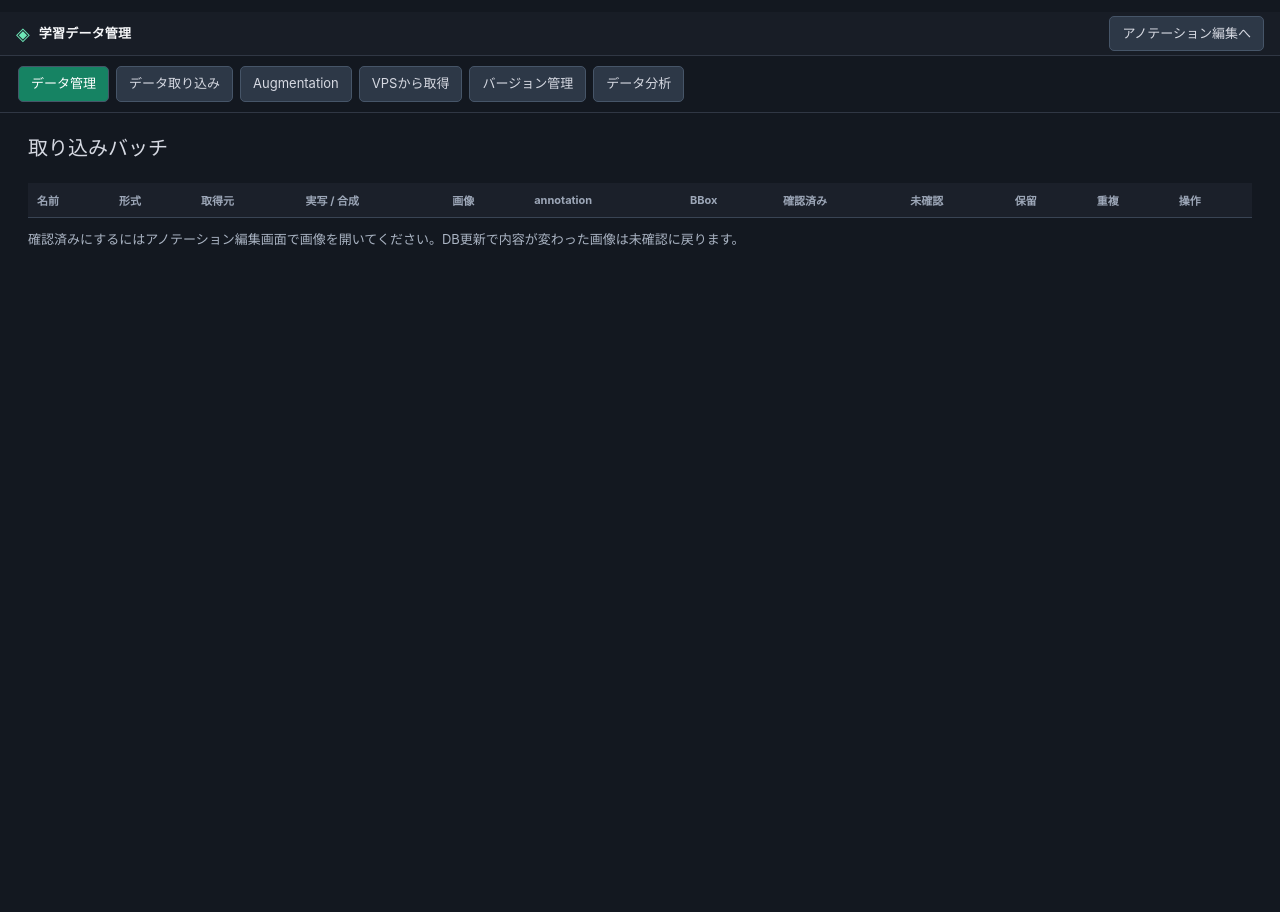
Test: lists completed VPS versions and imports the selected version into sources
The image size is (1280, 912).
Click the button "VPSから取得" at (411, 84), box [359, 66, 462, 102]
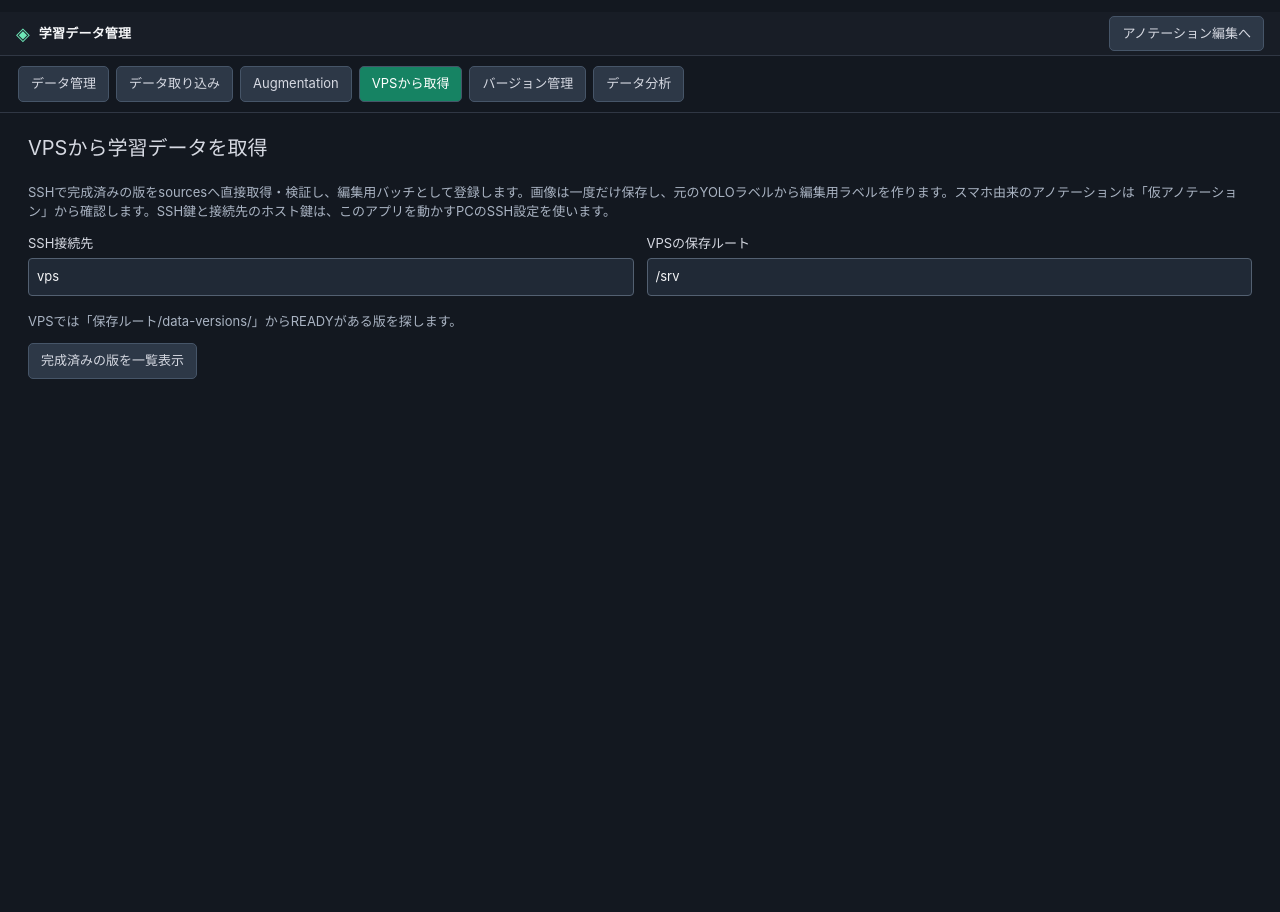
Now the field labelled "SSH接続先" holds "vps", box [28, 258, 634, 296]
Click the button "完成済みの版を一覧表示" at (112, 361), box [28, 343, 197, 378]
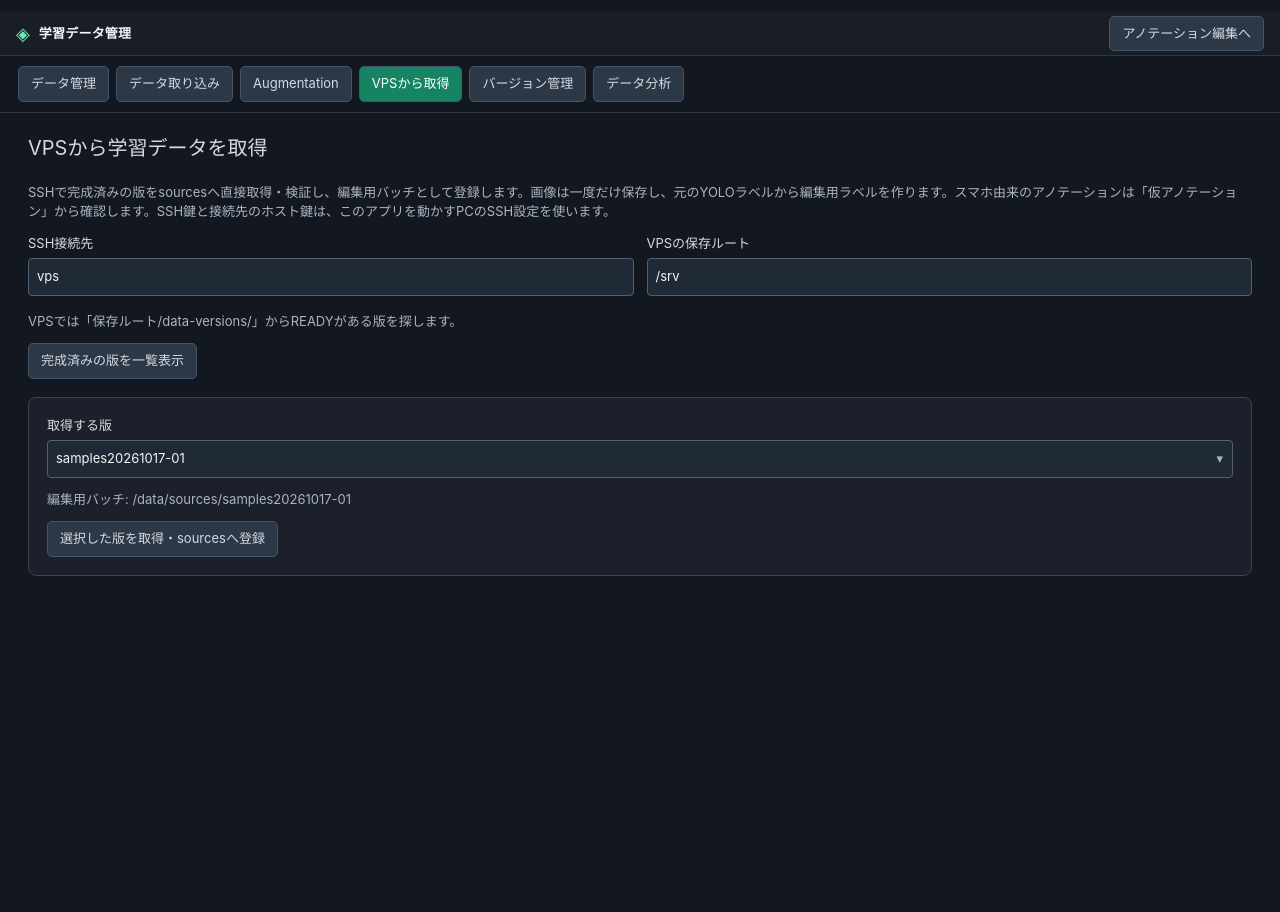
Now the heading named "取得する版を選択" is shown
Click the heading named "取得する版を選択" at (120, 458), box [47, 440, 1233, 478]
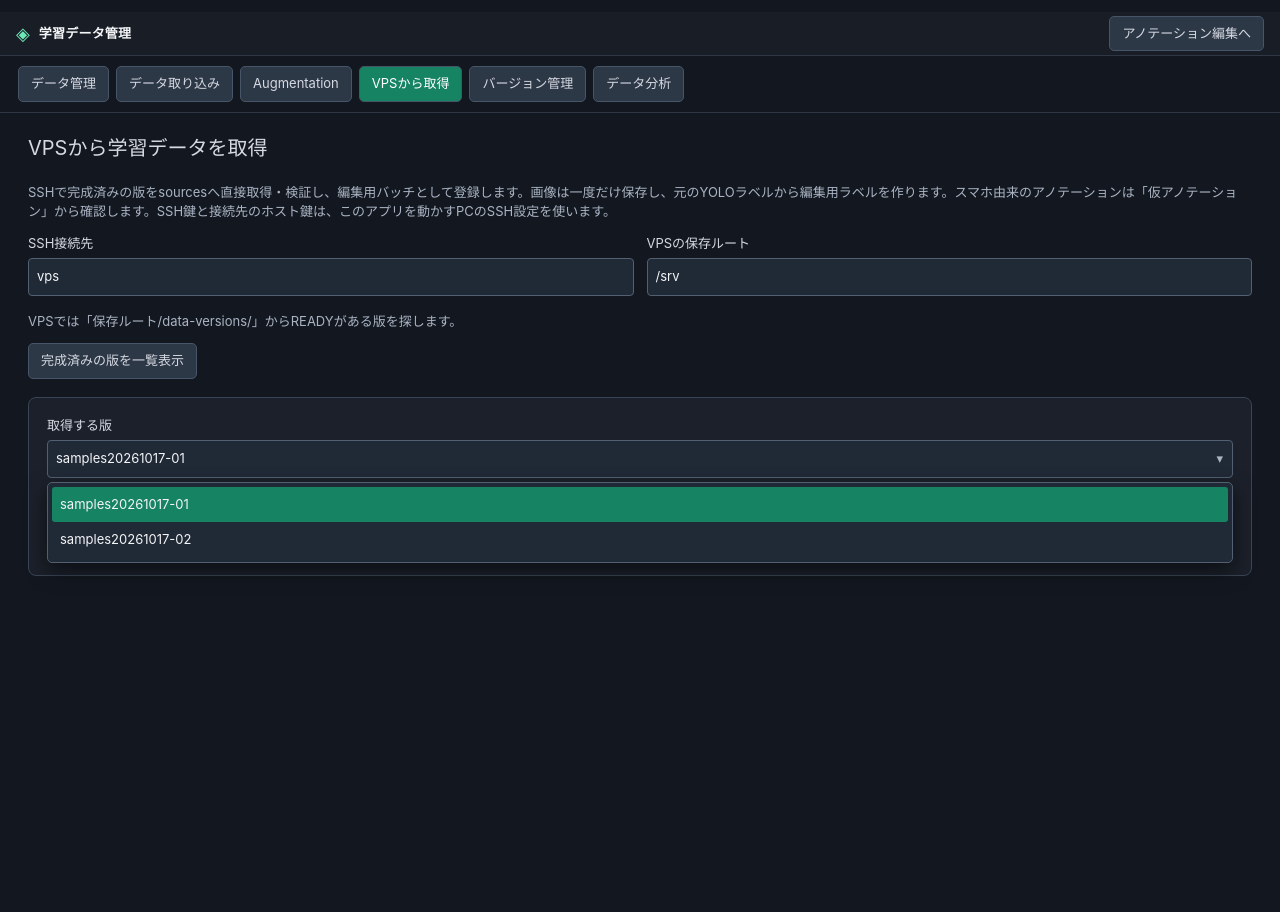
Click the button "samples20261017-02" at (126, 539), box [52, 522, 1228, 558]
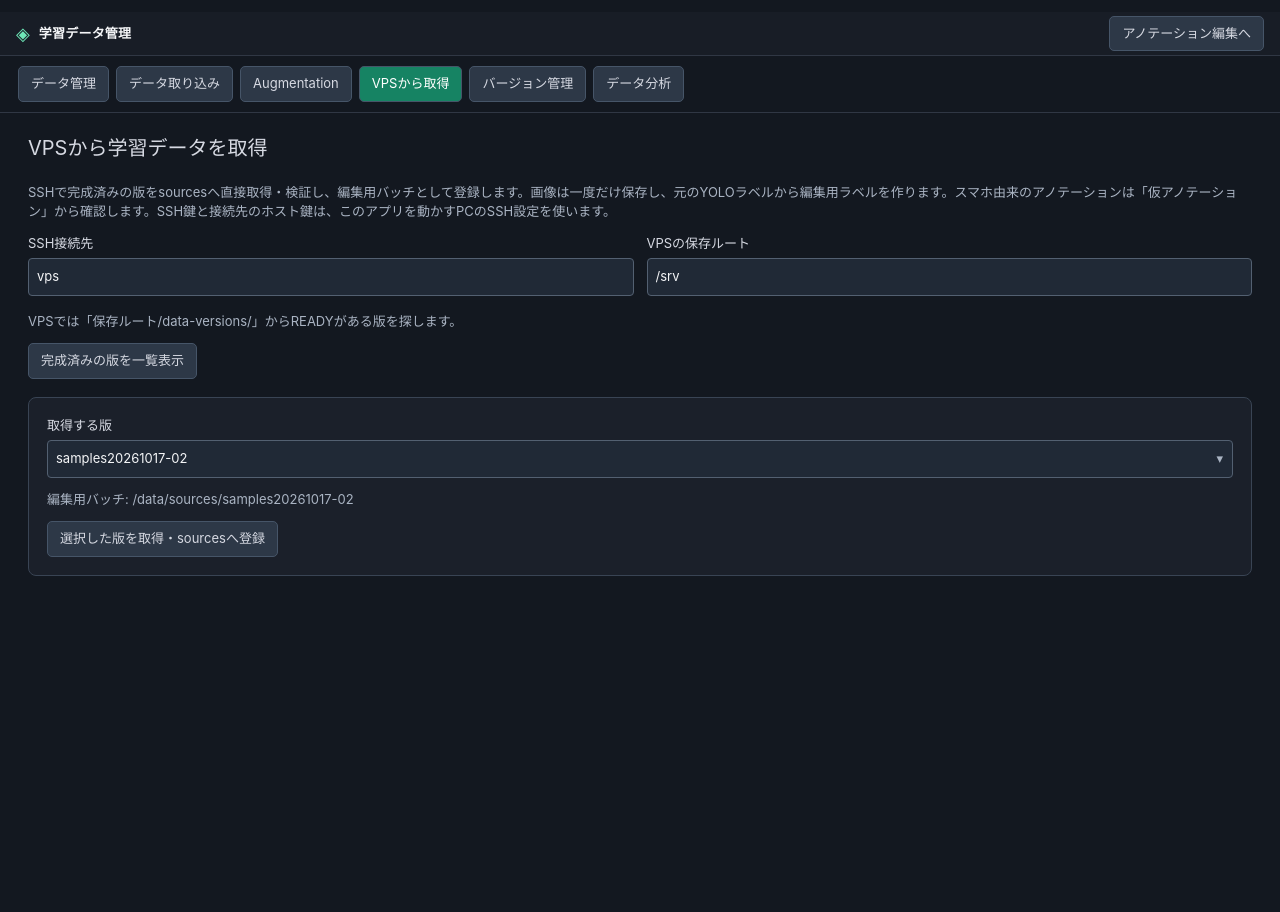
Now the text "編集用バッチ: /data/sources/samples20261017-02" is shown, box [47, 490, 354, 506]
Click the button "選択した版を取得・sourcesへ登録" at (162, 539), box [47, 521, 278, 556]
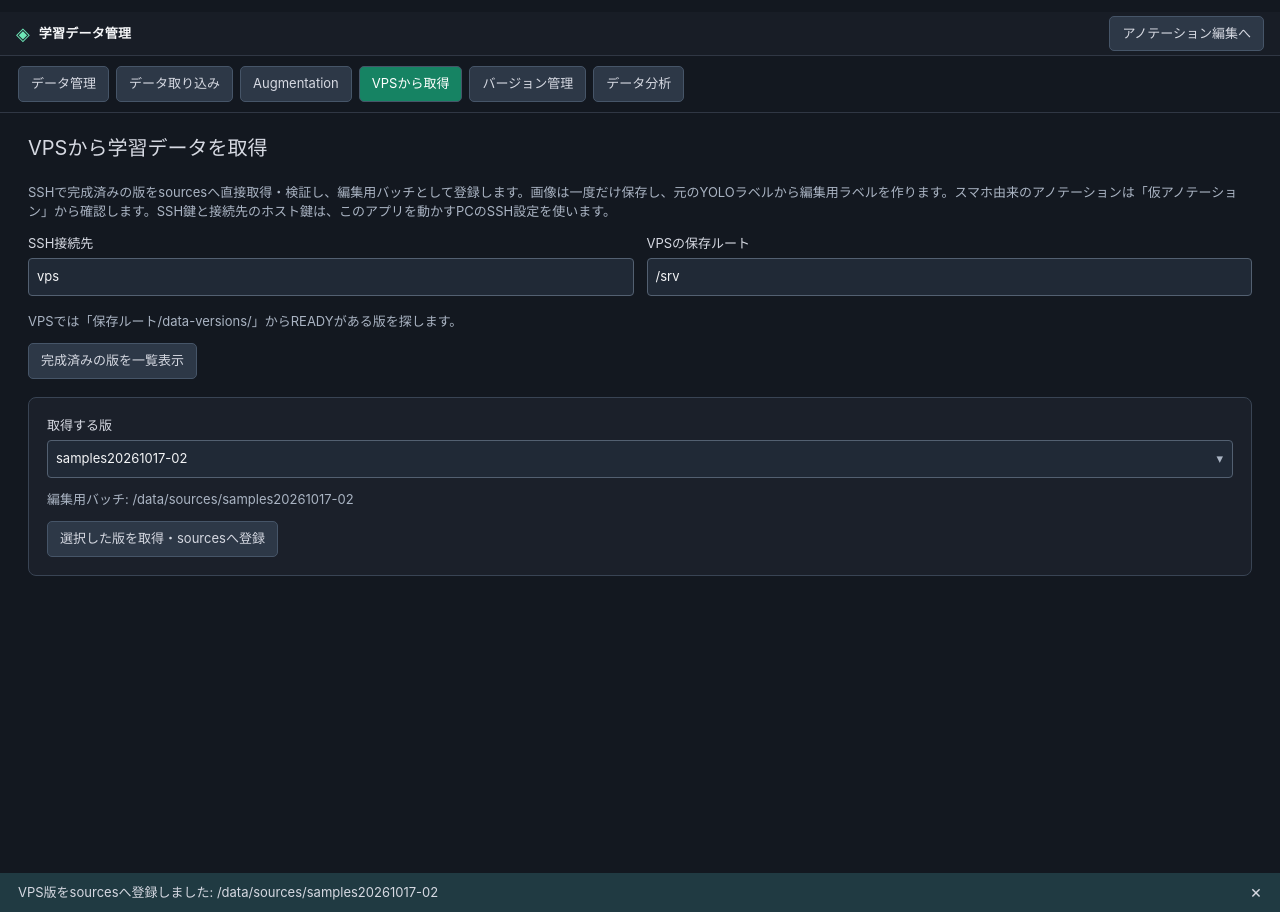
Now the text "VPS版をsourcesへ登録しました: /data/sources/samples20261017-02" is shown, box [18, 882, 438, 902]
